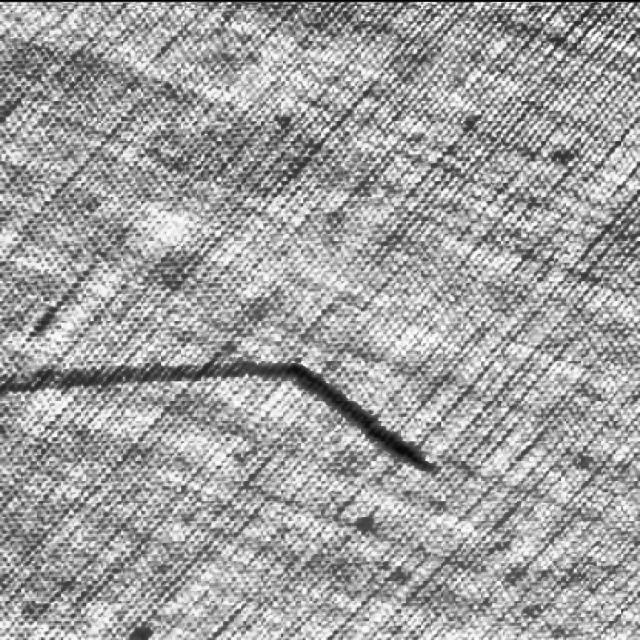oil_spot: (287, 359, 437, 475), (1, 348, 286, 406)
